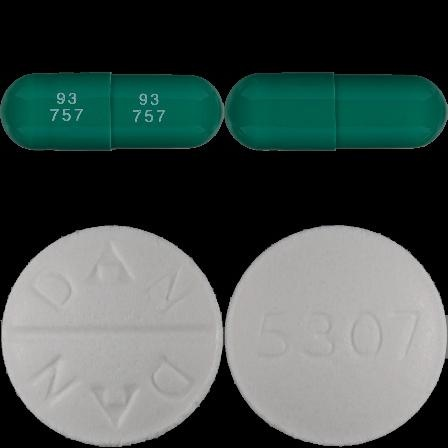16590-188: (0, 0, 224, 224)
